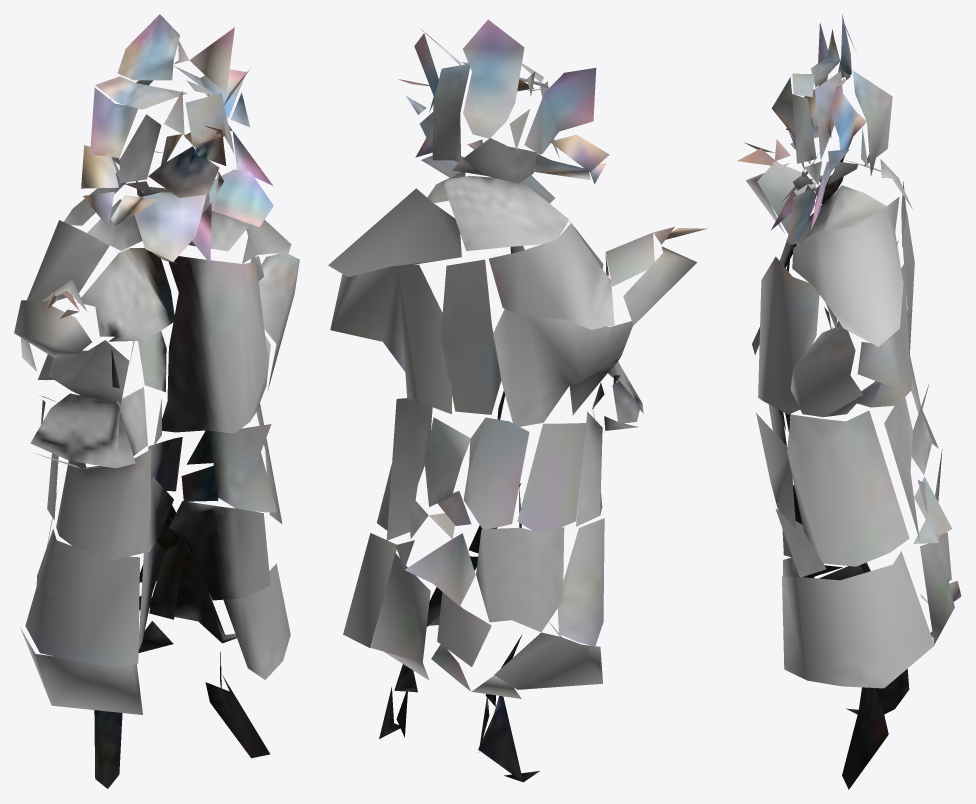
File: cast_editor_far.glb
The picture shows the model from 3 angles, left to right: view 1: azimuth 30°, elevation 25°; view 2: azimuth 150°, elevation 25°; view 3: azimuth 270°, elevation 25°; orthographic projection. The views are drawn at different scales.
Parts seen in each view (by area): view 1: tripo_node_bf9fb8a6-23f6-4862-ac37-375ab1056567; view 2: tripo_node_bf9fb8a6-23f6-4862-ac37-375ab1056567; view 3: tripo_node_bf9fb8a6-23f6-4862-ac37-375ab1056567.
Boxes of the visible parts, bbox=[...] form: tripo_node_bf9fb8a6-23f6-4862-ac37-375ab1056567: bbox=[14, 14, 299, 788]; tripo_node_bf9fb8a6-23f6-4862-ac37-375ab1056567: bbox=[328, 19, 707, 782]; tripo_node_bf9fb8a6-23f6-4862-ac37-375ab1056567: bbox=[737, 14, 961, 789].
Bounding box in the file's own units: 0.4314 × 0.9973 × 0.281.
Materials: 1 (1 with a texture image).
